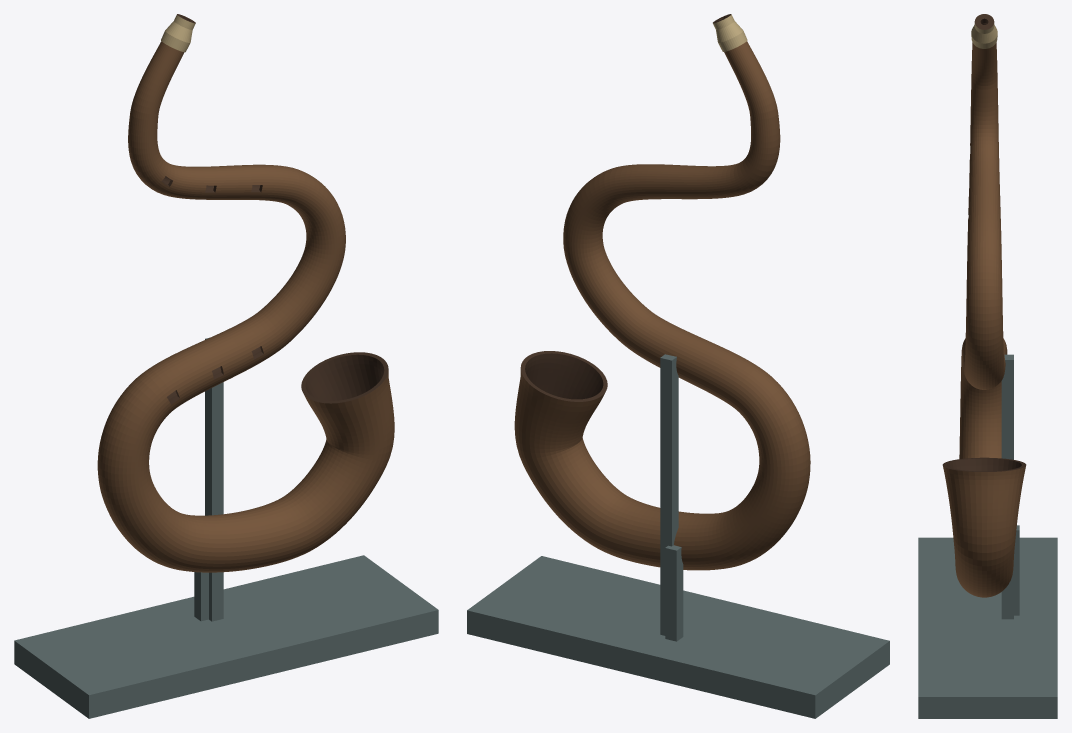
The picture shows the model from 3 angles, left to right: view 1: azimuth 30°, elevation 25°; view 2: azimuth 150°, elevation 25°; view 3: azimuth 270°, elevation 25°; orthographic projection. The views are drawn at different scales.
Parts seen in each view (by area): view 1: WholeContinuousSixPortThreeBendTaperedTube, WholeLowFiniteDisplayPlinth, WholeRearSupportPost_0, WholeHollowCupMouthpieceAndSocket, WholeRearSupportPost_1; view 2: WholeContinuousSixPortThreeBendTaperedTube, WholeLowFiniteDisplayPlinth, WholeRearSupportPost_0, WholeRearSupportPost_1, WholeHollowCupMouthpieceAndSocket; view 3: WholeContinuousSixPortThreeBendTaperedTube, WholeLowFiniteDisplayPlinth, WholeRearSupportPost_0, WholeHollowCupMouthpieceAndSocket, WholeRearSupportPost_1.
Part boxes in pixels (x1=…): WholeContinuousSixPortThreeBendTaperedTube: x1=97, y1=41, x2=394, y2=572; WholeLowFiniteDisplayPlinth: x1=14, y1=555, x2=438, y2=718; WholeRearSupportPost_0: x1=205, y1=337, x2=223, y2=621; WholeHollowCupMouthpieceAndSocket: x1=161, y1=14, x2=195, y2=52; WholeRearSupportPost_1: x1=194, y1=572, x2=208, y2=621; WholeContinuousSixPortThreeBendTaperedTube: x1=514, y1=41, x2=810, y2=570; WholeLowFiniteDisplayPlinth: x1=467, y1=556, x2=889, y2=718; WholeRearSupportPost_0: x1=660, y1=354, x2=678, y2=635; WholeRearSupportPost_1: x1=665, y1=545, x2=683, y2=641; WholeHollowCupMouthpieceAndSocket: x1=713, y1=14, x2=747, y2=51; WholeContinuousSixPortThreeBendTaperedTube: x1=942, y1=42, x2=1026, y2=597; WholeLowFiniteDisplayPlinth: x1=918, y1=537, x2=1057, y2=718; WholeRearSupportPost_0: x1=1001, y1=354, x2=1013, y2=619; WholeHollowCupMouthpieceAndSocket: x1=971, y1=14, x2=997, y2=48; WholeRearSupportPost_1: x1=1014, y1=525, x2=1019, y2=615.
Bounding box in the file's own units: 0.54 × 0.9538 × 0.2.
